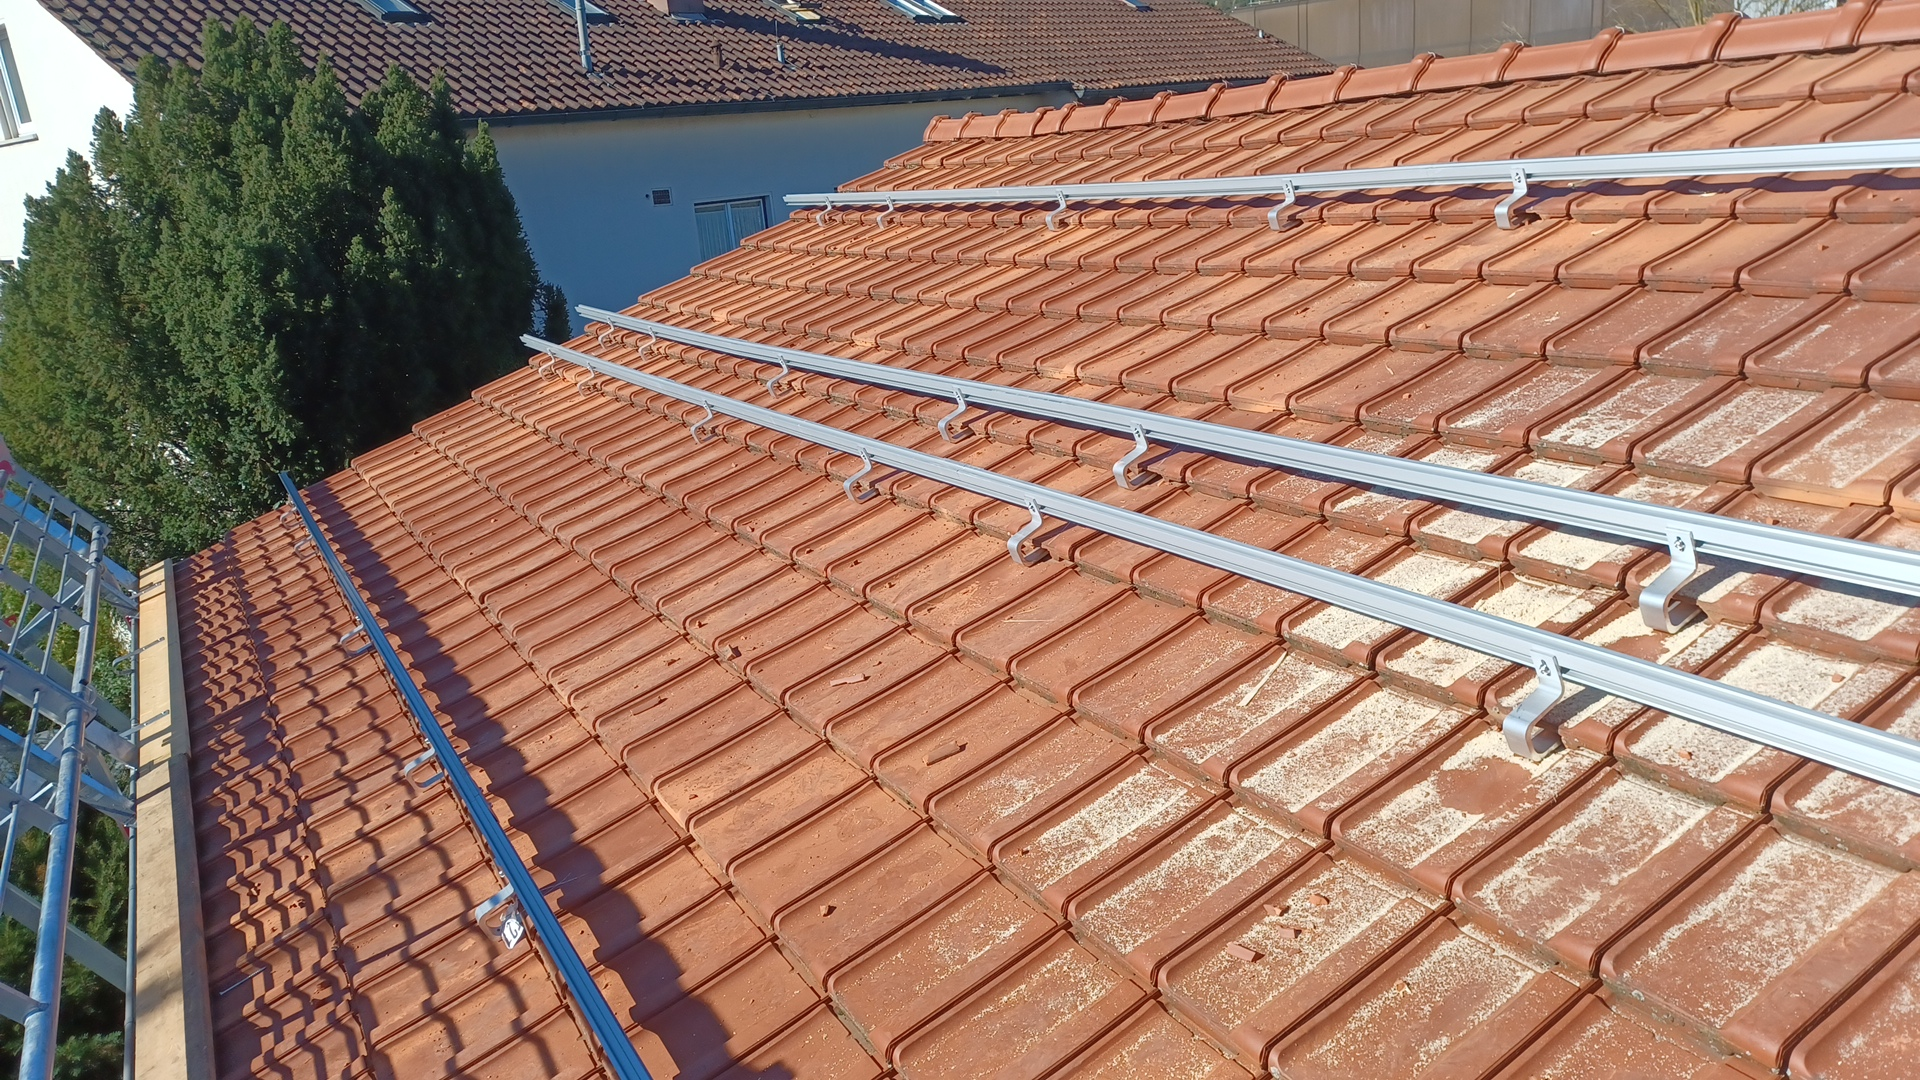hook: (1502, 649, 1565, 762), (1638, 527, 1701, 634), (475, 858, 527, 942), (1112, 422, 1158, 491), (1007, 497, 1048, 567), (1494, 167, 1535, 229), (404, 736, 444, 793), (938, 386, 973, 444), (844, 448, 880, 504), (1267, 179, 1302, 231), (340, 615, 372, 657), (690, 400, 713, 443), (766, 353, 789, 398), (1046, 190, 1068, 232), (294, 527, 316, 559), (638, 326, 657, 361), (578, 363, 596, 397), (538, 349, 556, 381), (597, 316, 615, 349), (877, 196, 894, 229), (280, 500, 298, 530), (818, 196, 832, 225)
